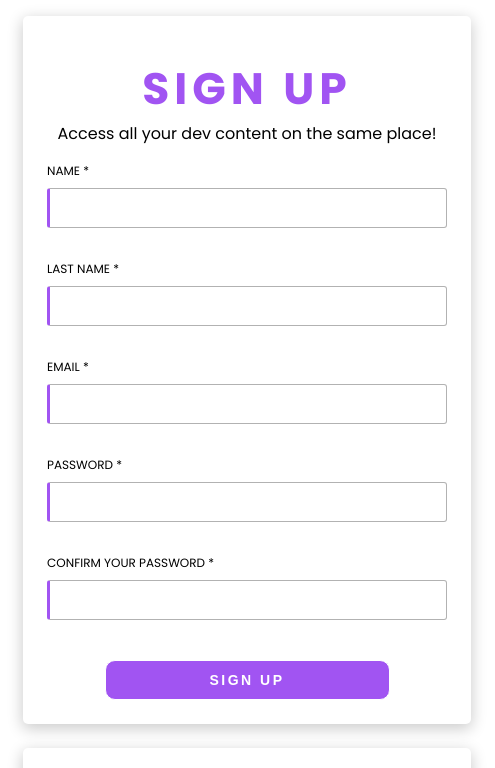
Test case: Register flow › should validate all form fields
The width and height of the screenshot is (495, 768).
Click the button.
click(247, 680)  # box [104,660,390,700]
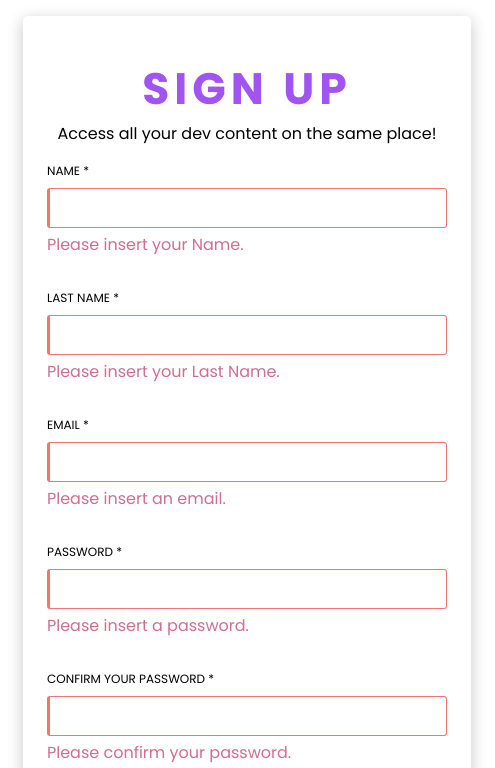
Result: the number of elements named "Input error" is 5 at [47,233,244,256]; [47,360,280,383]; [47,487,226,510]; [47,614,249,637]; [47,741,291,764]
